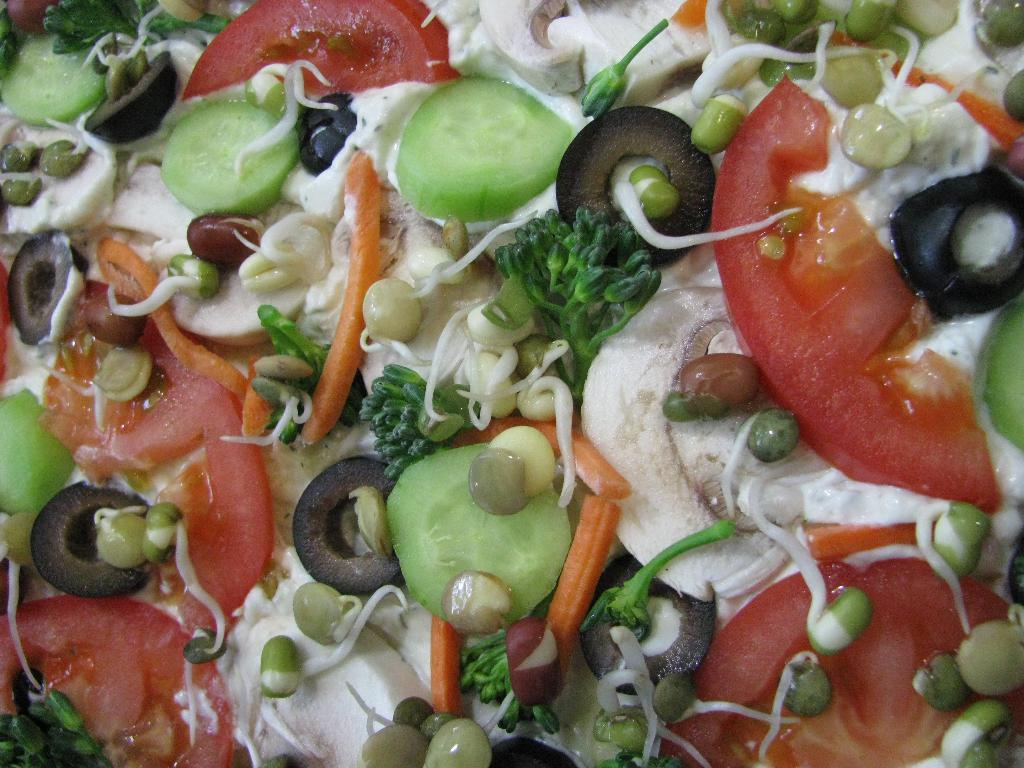Pizza: (0, 0, 1020, 748)
